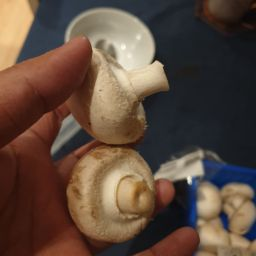Mushrooms: (39, 32, 174, 144), (69, 143, 170, 248)
